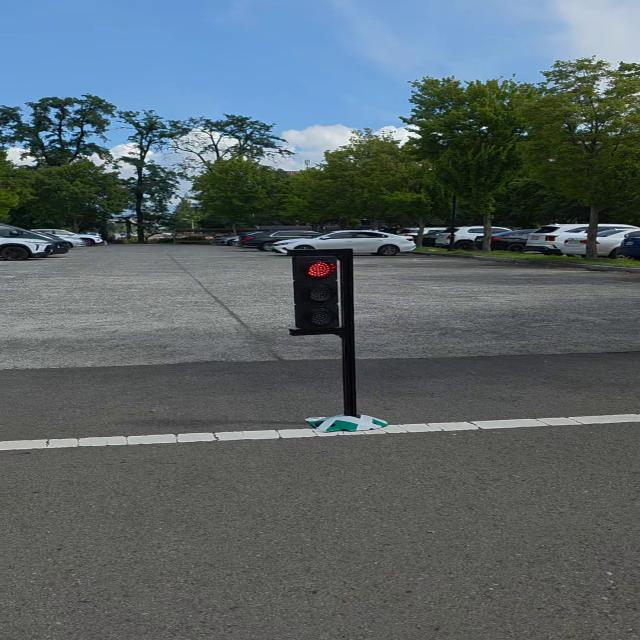red: (288, 246, 356, 335)
